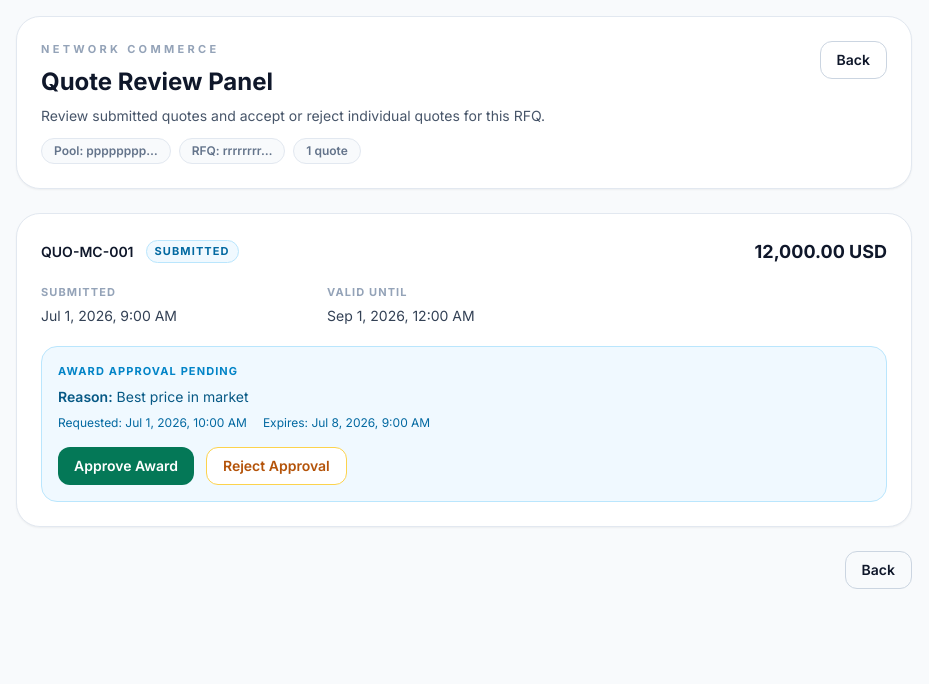
Scenario: MC-FE-13: approval expired and already-decided errors show safe messages › shows safe message for APPROVAL_ALREADY_DECIDED error on approve action
This screenshot has width=929, height=684.
What coordinates should you click on to do the following:
click the button with aria-label "approve award for quote quo-mc-001"
I would click on:
 (126, 466)
Its box is top-left (58, 447), bottom-right (194, 485).
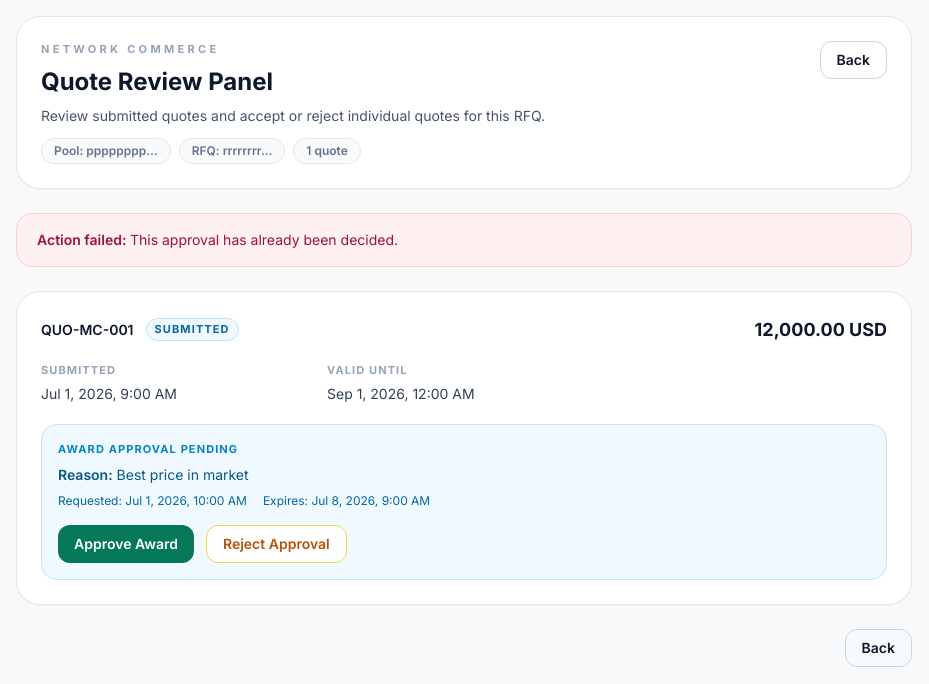
expect the text "This approval has already been decided." is shown: met, box top-left (130, 230), bottom-right (398, 248)
